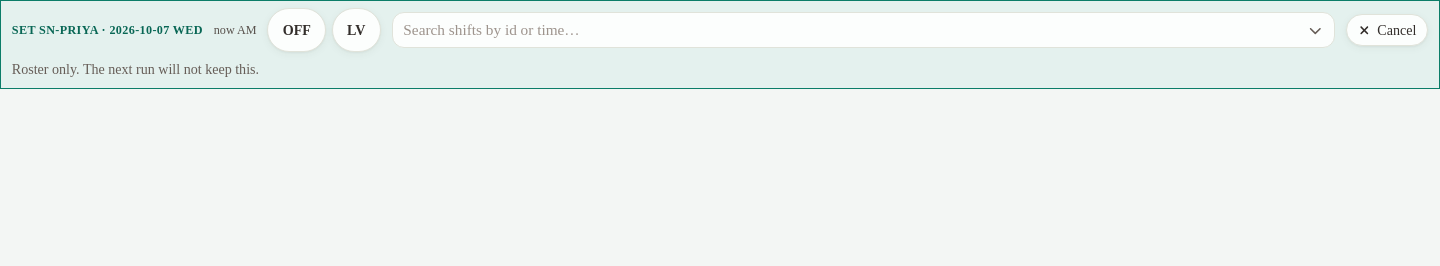
Test: RosterEditBar — aria-hidden must not cover tabbable content › gives the bar's controls their tab stops back once the picker closes
This screenshot has width=1440, height=266.
Click the dropdown with test id "roster-shift-picker" at (846, 30), box [392, 15, 1300, 45]
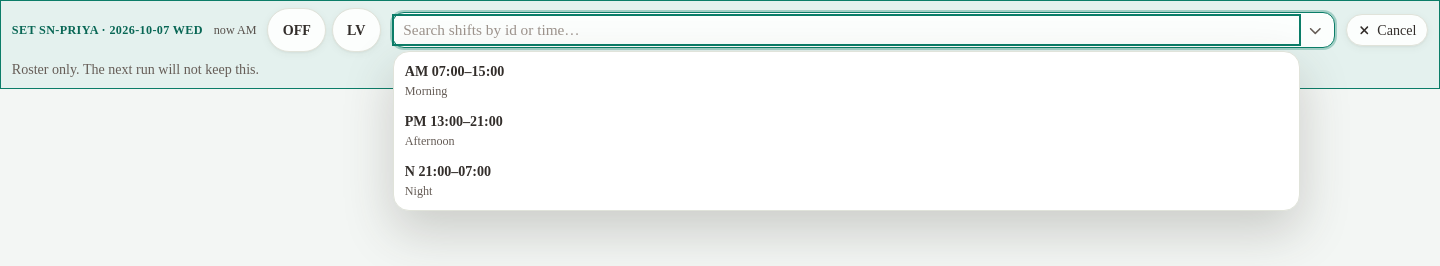
Now the option with test id "roster-shift-option-AM" is shown, box [405, 63, 504, 98]
Press Escape
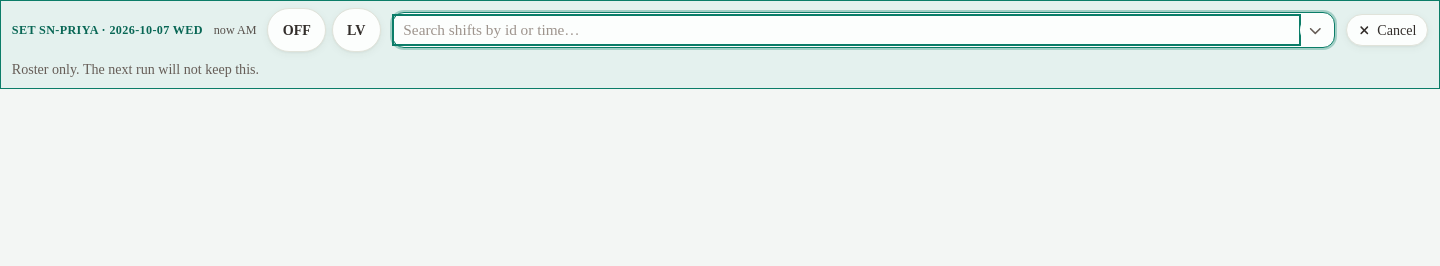
Now the option with test id "roster-shift-option-AM" is gone
